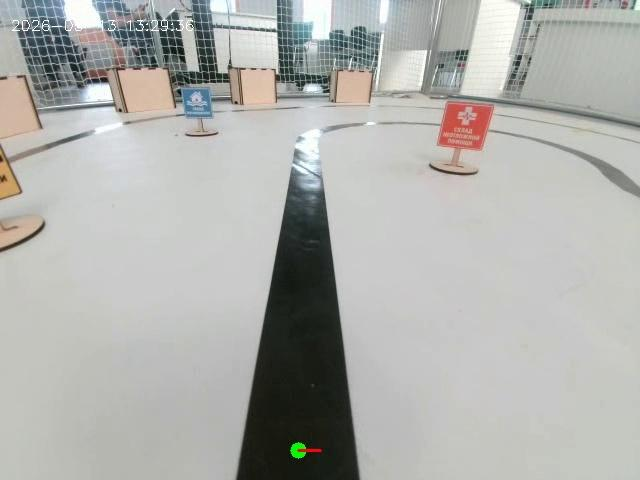flood: (163, 69, 232, 144)
industrial: (0, 136, 58, 263)
medical: (417, 85, 490, 199)
